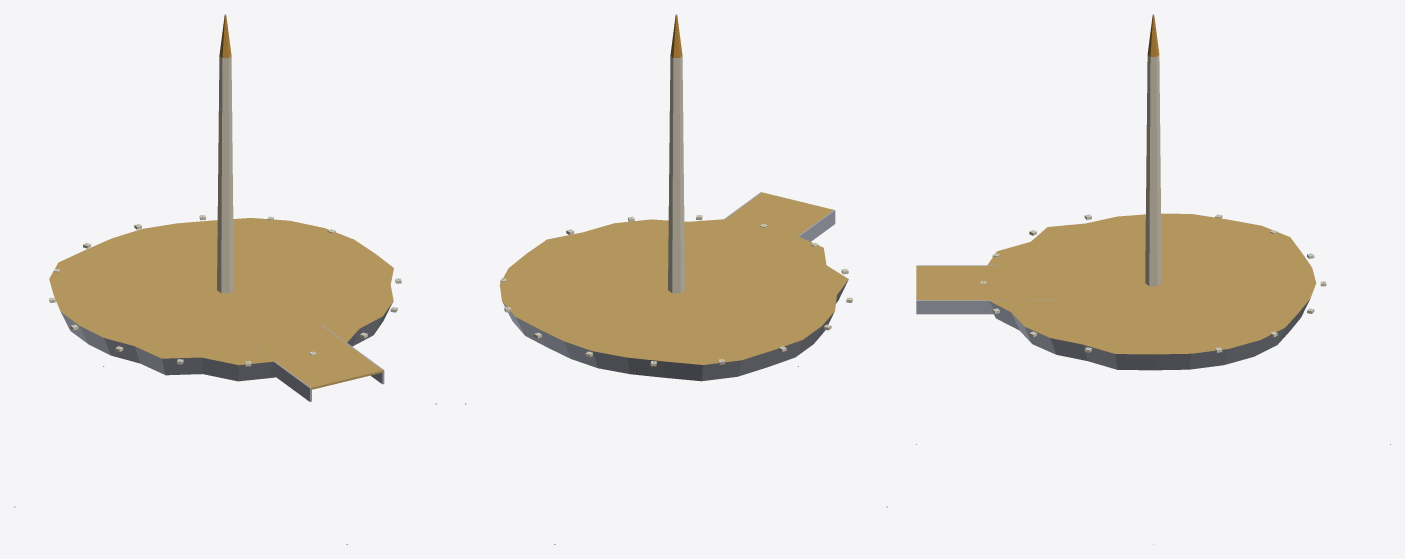
Rendered from chunk_es_entry.fbx.
The picture shows the model from 3 angles, left to right: view 1: azimuth 30°, elevation 25°; view 2: azimuth 150°, elevation 25°; view 3: azimuth 270°, elevation 25°; orthographic projection. The views are drawn at different scales.
Parts seen in each view (by area): view 1: ES_ENTRY; view 2: ES_ENTRY; view 3: ES_ENTRY.
Part boxes in pixels (x1,y1,x2,y2): ES_ENTRY: (14,14,436,544); ES_ENTRY: (465,14,887,544); ES_ENTRY: (916,14,1390,544).
Size of the model in its own units: 256 by 256 by 256.
